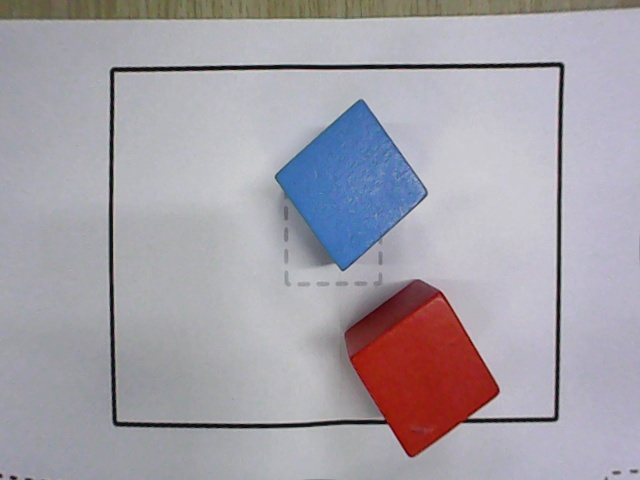upside of big cube: (274, 100, 428, 271), (350, 294, 501, 458)
